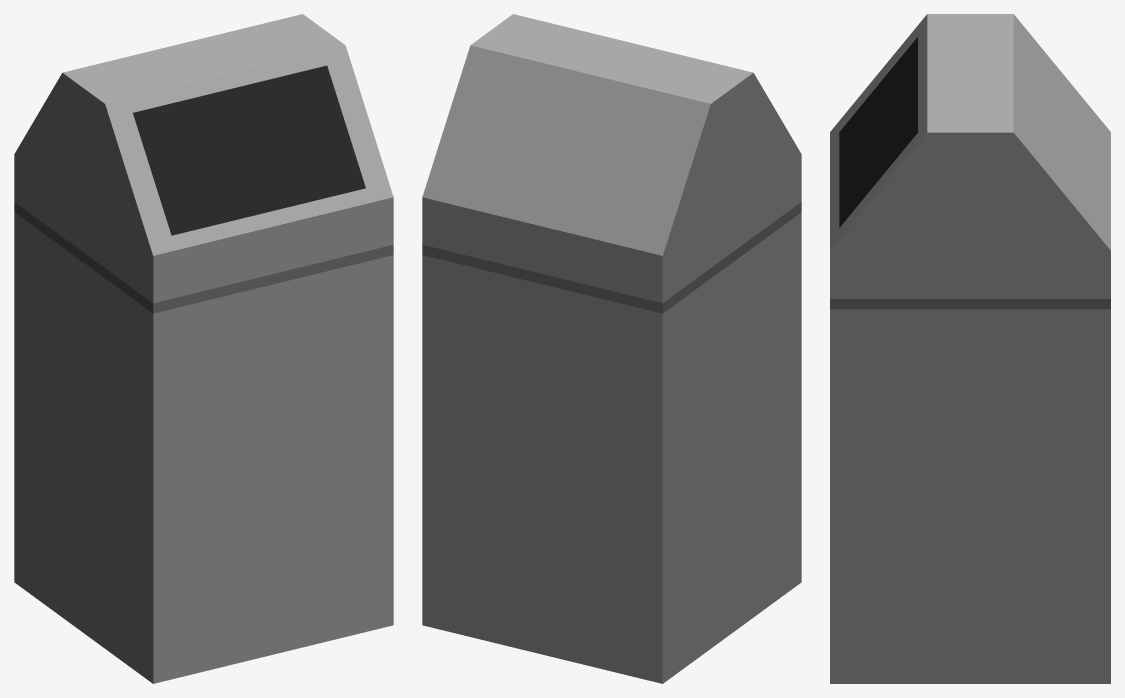
Rendered from SO_RubbishBin_01.fbx.
The picture shows the model from 3 angles, left to right: view 1: azimuth 30°, elevation 25°; view 2: azimuth 150°, elevation 25°; view 3: azimuth 270°, elevation 25°; orthographic projection.
Parts seen in each view (by area): view 1: SO_RubbishBin_01; view 2: SO_RubbishBin_01; view 3: SO_RubbishBin_01.
Boxes of the visible parts, x1,y1,x2,y2 form: SO_RubbishBin_01: (14,14,393,683); SO_RubbishBin_01: (422,14,801,683); SO_RubbishBin_01: (830,14,1110,683).
Size of the model in its own units: 0.4546 by 0.9842 by 0.4546.
